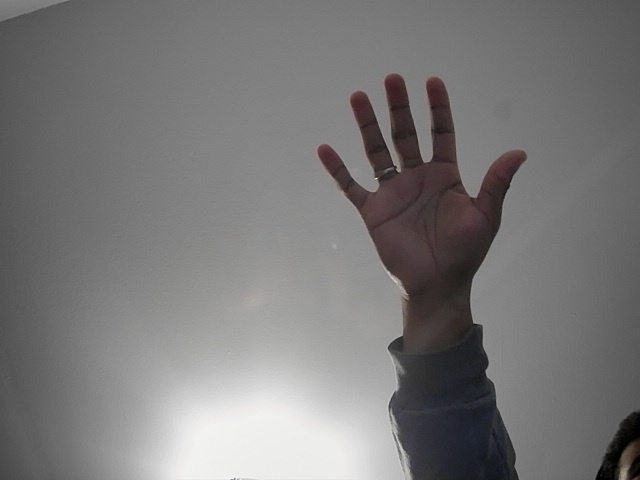Hello: (300, 54, 543, 313)
